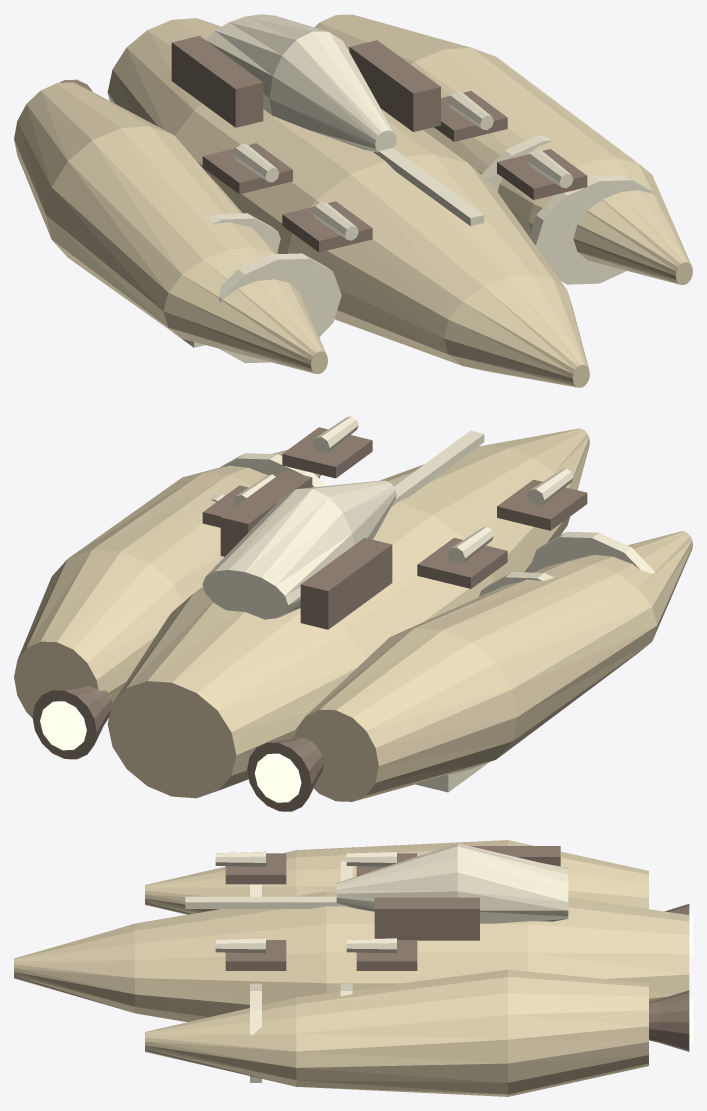
3 views of the same model, one above another, from view 1: azimuth 30°, elevation 25°; view 2: azimuth 150°, elevation 25°; view 3: azimuth 270°, elevation 25° (orthographic). The views are drawn at different scales.
Size of the model in its own units: 10.71 by 4.72 by 15.46.
